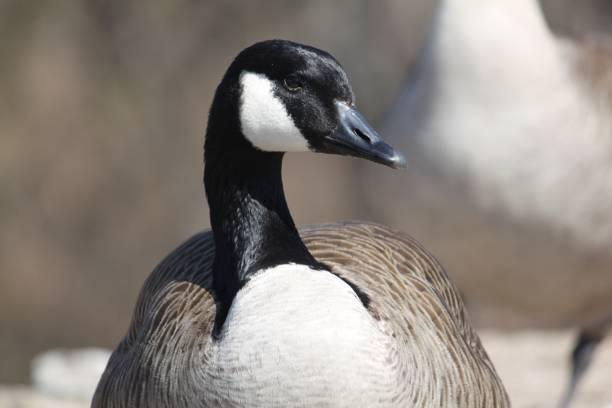Canadian-Goose: (87, 37, 509, 408)
